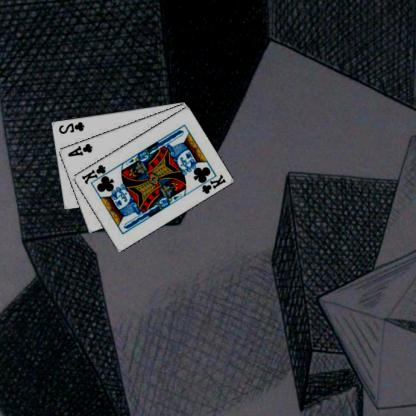2C: (58, 120, 87, 134)
AC: (67, 141, 95, 158)
KC: (195, 172, 228, 195), (81, 162, 113, 185)
